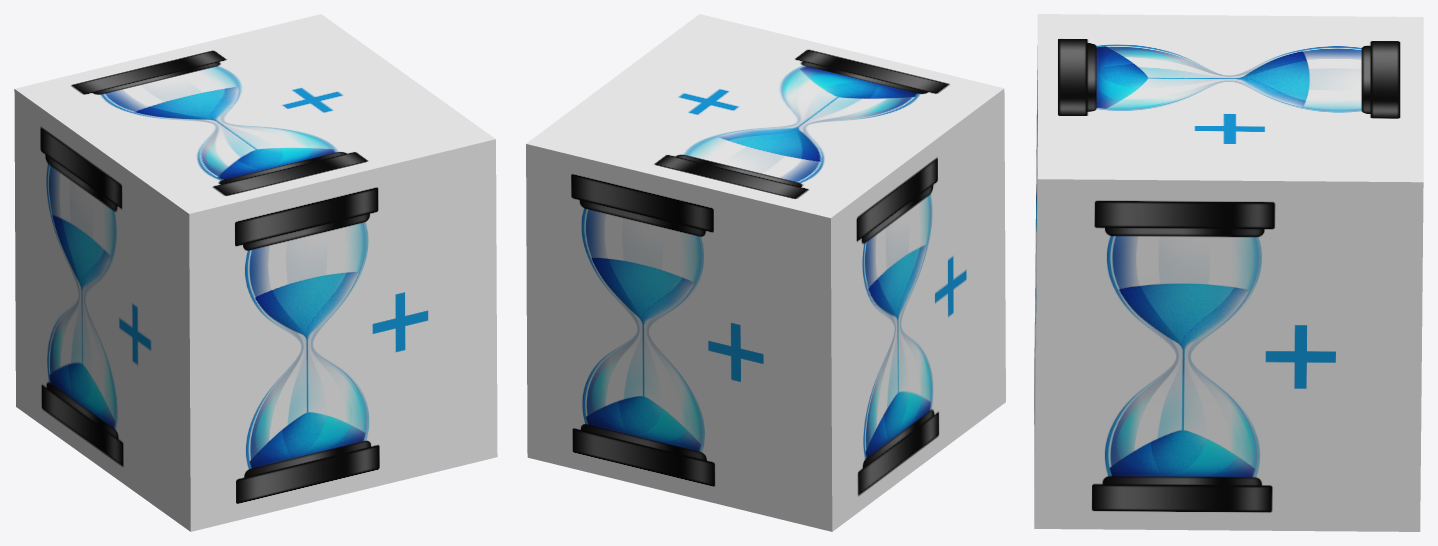
The model's file is block_addtime_2.FBX.
3 views of the same model, side by side, from view 1: azimuth 30°, elevation 25°; view 2: azimuth 150°, elevation 25°; view 3: azimuth 270°, elevation 25° (orthographic). The views are drawn at different scales.
Parts seen in each view (by area): view 1: Box001; view 2: Box001; view 3: Box001.
Boxes of the visible parts, x1,y1,x2,y2 form: Box001: (14, 14, 497, 531); Box001: (526, 14, 1005, 531); Box001: (1034, 14, 1423, 531).
Size of the model in its own units: 101 by 101 by 101.
Materials: 1 (1 with a texture image).
